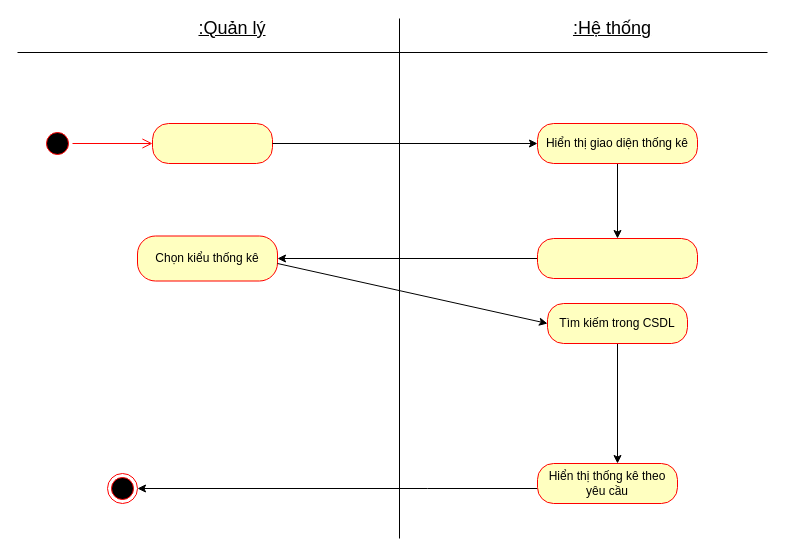
This 785x557 diagram has some shape labels left out. Each missing label, with the box of its shape:
Yêu cầu chọn kiểu thống kê: (536, 238, 698, 278)
Yêu cầu thống kê: (152, 122, 272, 164)
